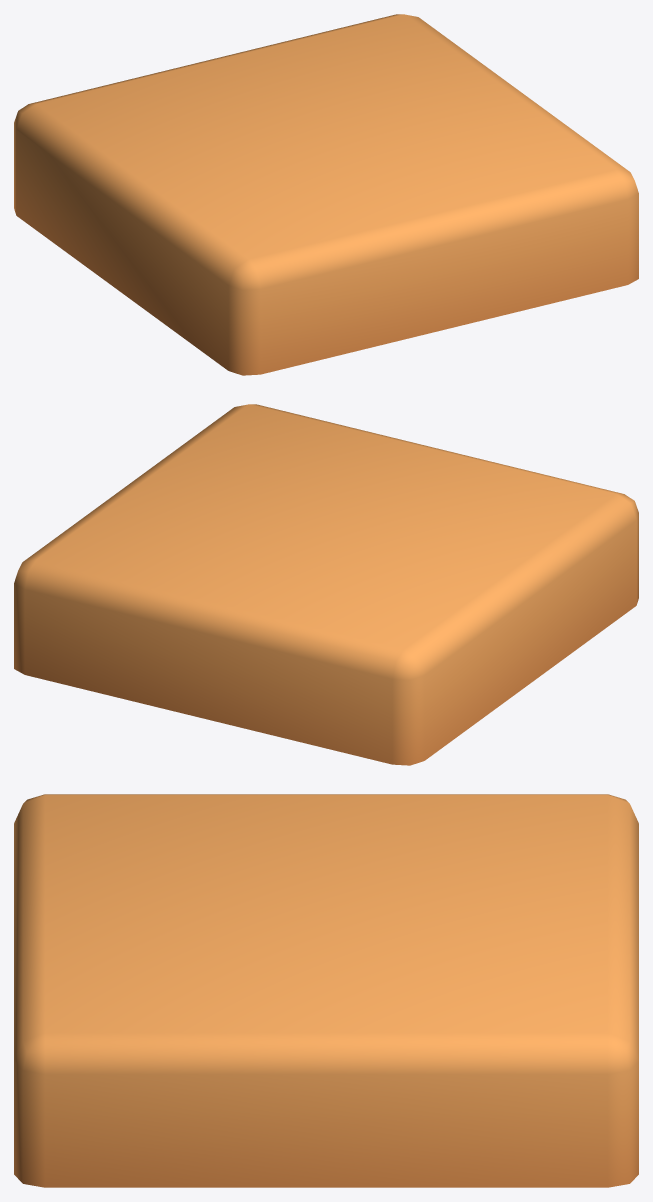
File: 3D_Tile_Top_02.fbx
3 views of the same model, one above another, from view 1: azimuth 30°, elevation 25°; view 2: azimuth 150°, elevation 25°; view 3: azimuth 270°, elevation 25° (orthographic). The views are drawn at different scales.
Visible parts, largest first — view 1: 3D_Tile_Top_02; view 2: 3D_Tile_Top_02; view 3: 3D_Tile_Top_02.
Boxes of the visible parts, <box> form: 3D_Tile_Top_02: <box>14,14,638,375</box>; 3D_Tile_Top_02: <box>14,404,638,765</box>; 3D_Tile_Top_02: <box>14,794,638,1187</box>.
Size of the model in its own units: 200 by 50 by 200.
